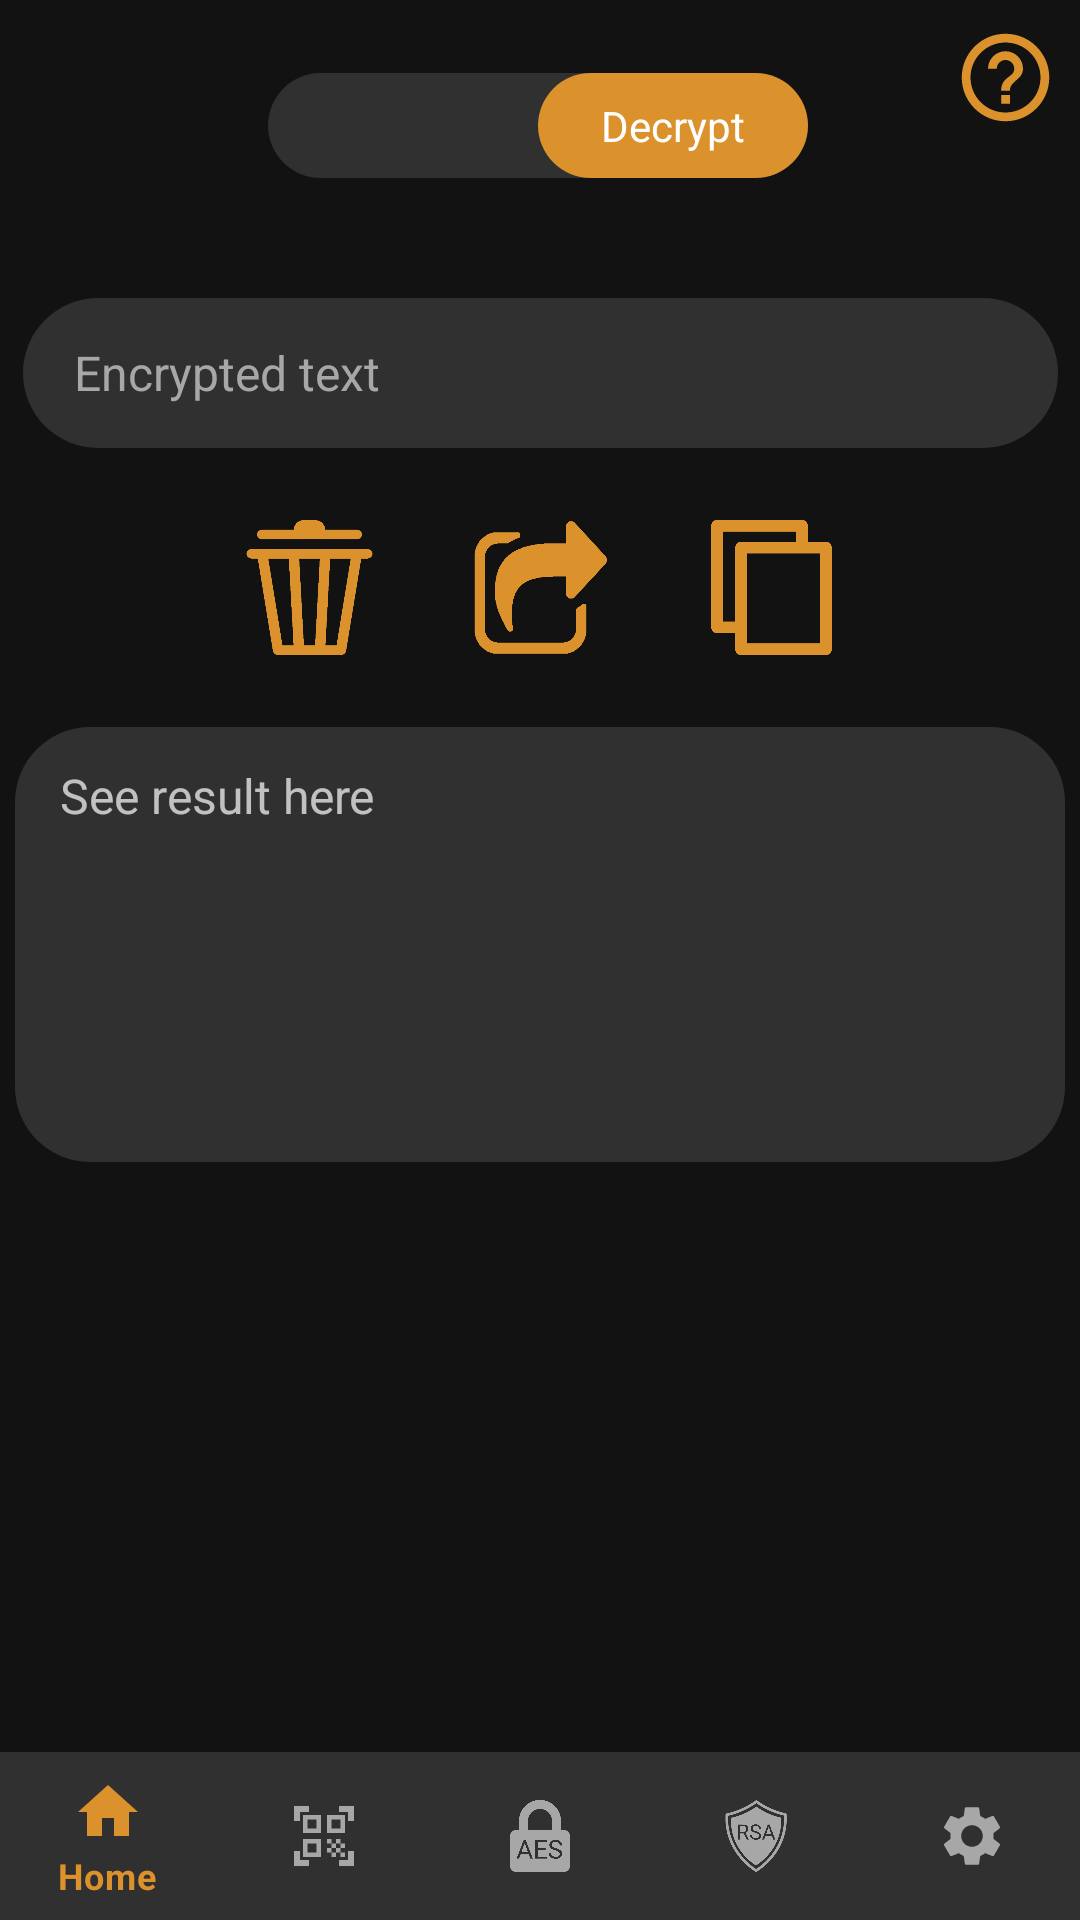

Point at icon controls on the screen. Image size 1080 × 1920, points as (x,y).
help menu: (1005,77)
